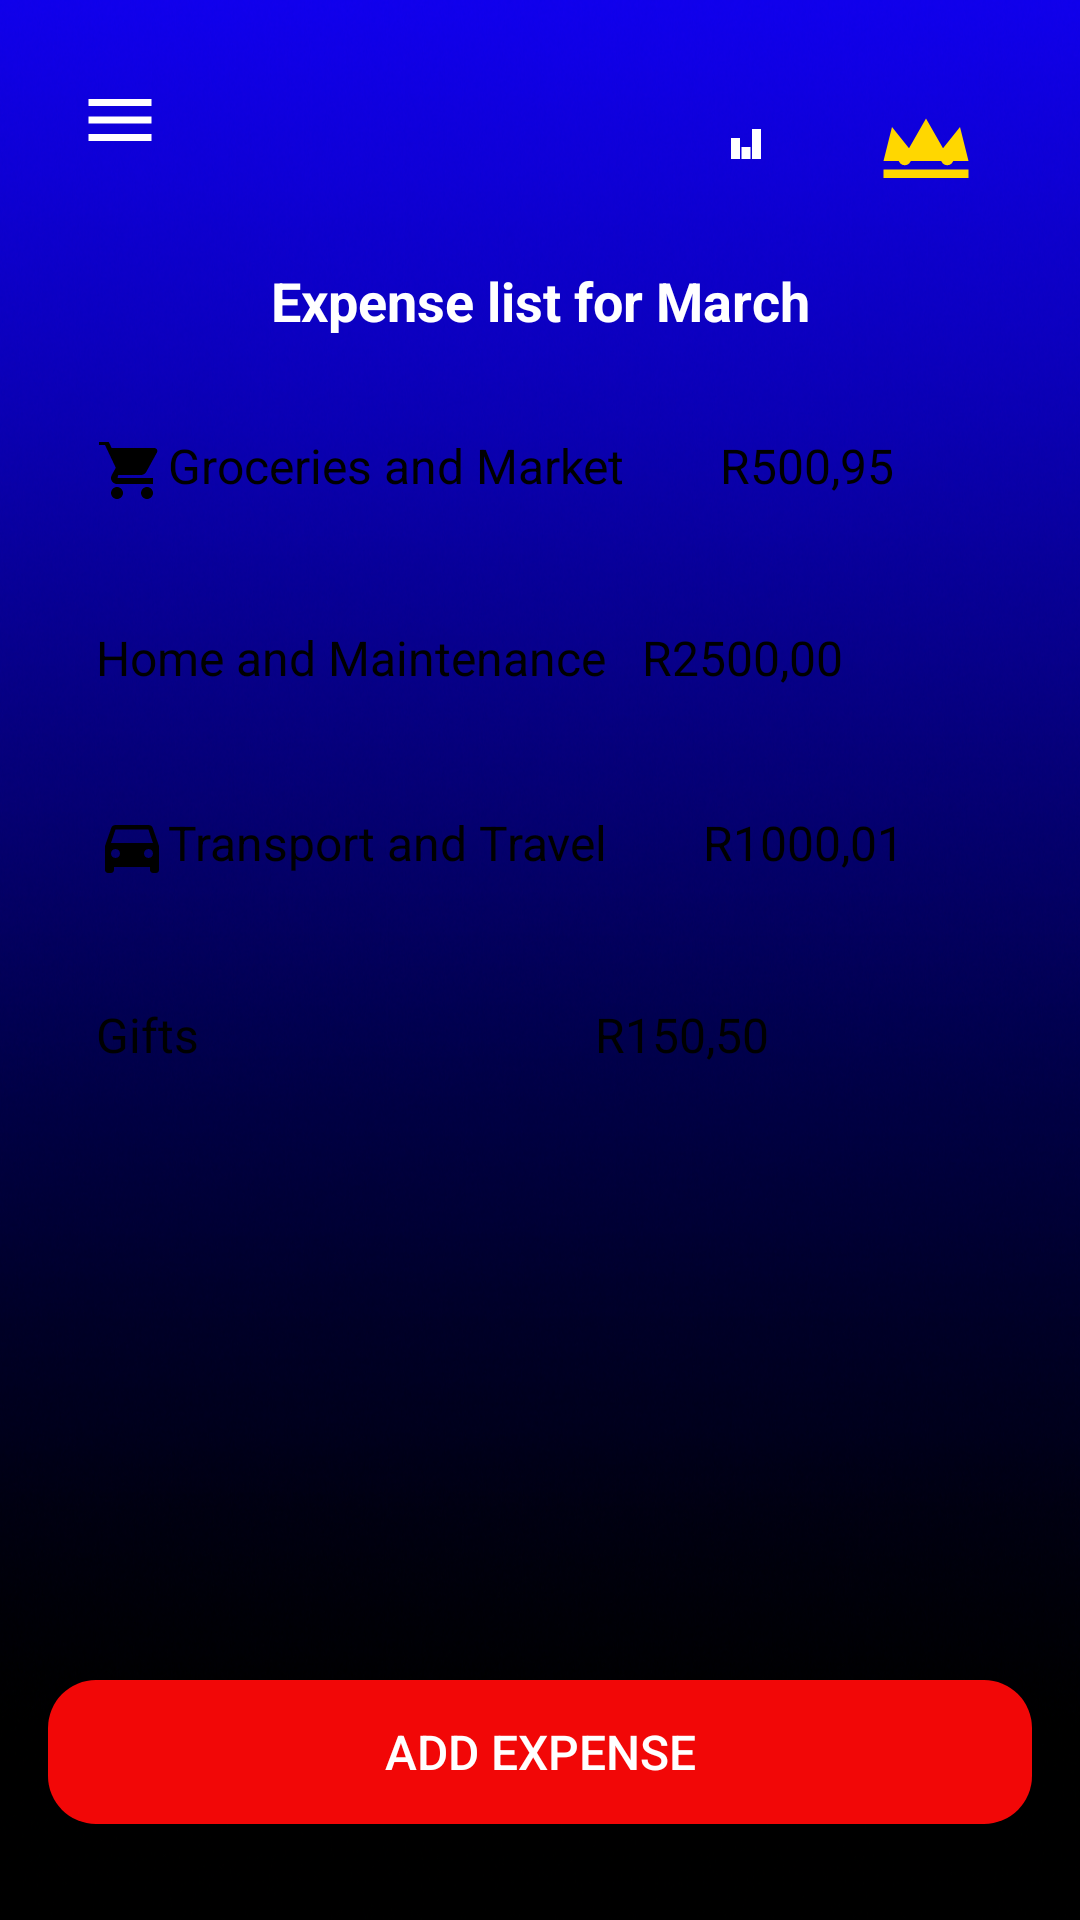

Named icons in this screenshot (1080*1920) and their centers, [x,y]:
Crown: [926,148]
Leaderboard: [746,144]
Menu: [120,120]
